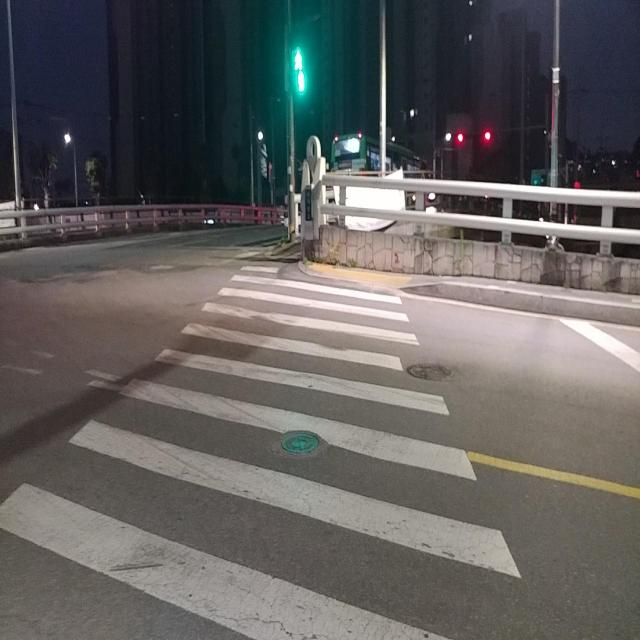초록불: (291, 30, 309, 98)
횡단보도: (0, 263, 522, 639), (52, 229, 296, 264)
